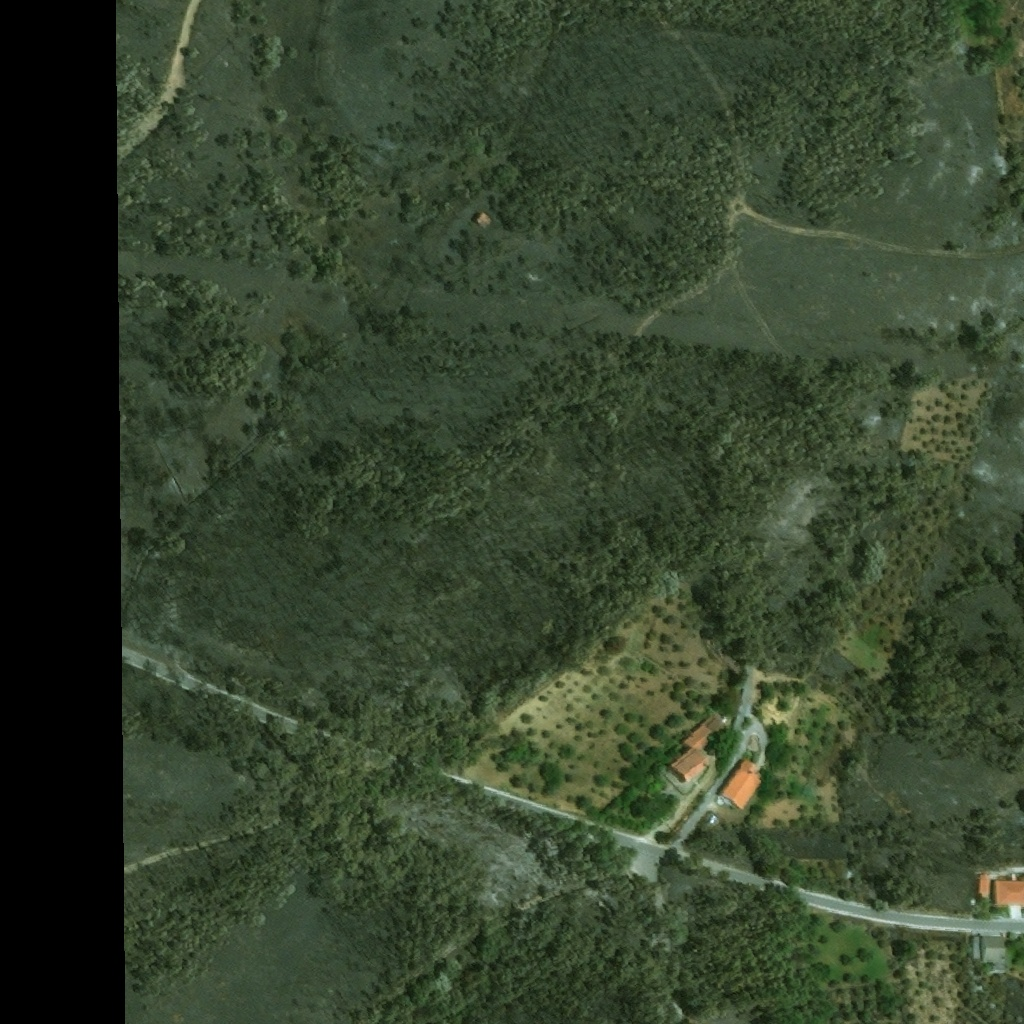0 no-damage: (668, 712, 725, 785), (716, 756, 764, 812), (978, 874, 1023, 919), (972, 932, 1008, 974)
